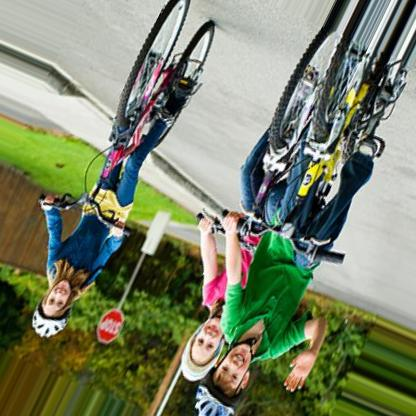with helmet: (191, 343, 254, 416), (178, 320, 223, 381), (31, 279, 73, 338)
